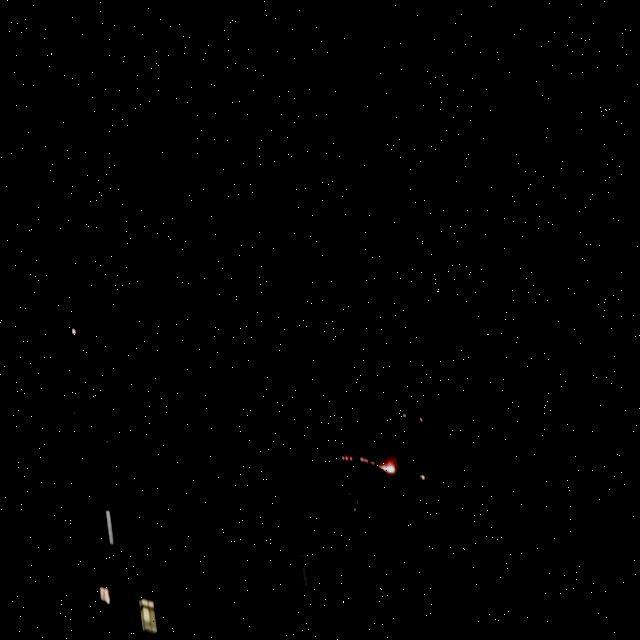Fire: (365, 446, 384, 464), (326, 437, 342, 451), (348, 442, 362, 454)
